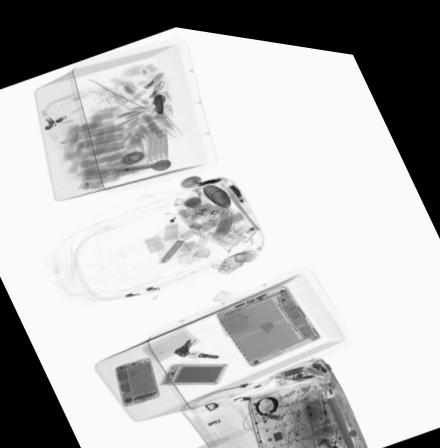Knife: (153, 88, 163, 110)
